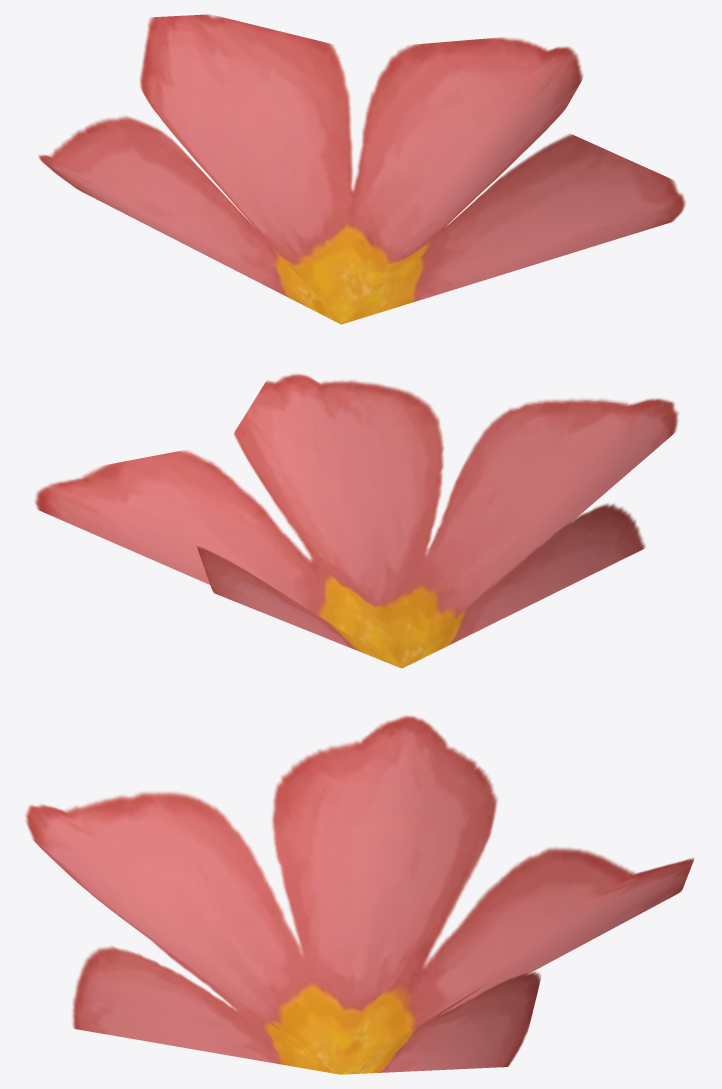
The model's file is flower-petal-5.glb.
3 views of the same model, one above another, from view 1: azimuth 30°, elevation 25°; view 2: azimuth 150°, elevation 25°; view 3: azimuth 270°, elevation 25° (orthographic). The views are drawn at different scales.
Visible parts, largest first — view 1: Petal_5; view 2: Petal_5; view 3: Petal_5.
Part boxes in pixels (x1,y1,x2,y2): Petal_5: (38,14,685,324); Petal_5: (34,373,678,668); Petal_5: (25,715,694,1074).
Size of the model in its own units: 0.834 by 0.2888 by 0.7952.
1 material, 1 textured.
